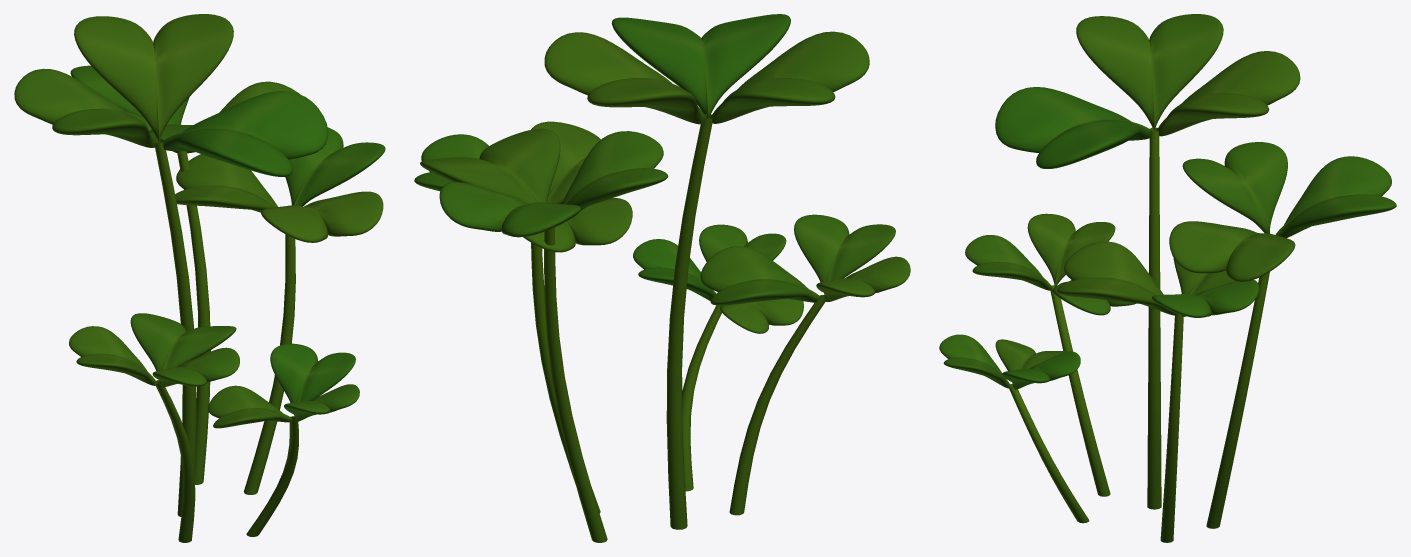
The model's file is bank_clover.glb.
The picture shows the model from 3 angles, left to right: view 1: azimuth 30°, elevation 25°; view 2: azimuth 150°, elevation 25°; view 3: azimuth 270°, elevation 25°; orthographic projection. The views are drawn at different scales.
Parts seen in each view (by area): view 1: SM_BankClover; view 2: SM_BankClover; view 3: SM_BankClover.
Part boxes in pixels (left/top/right/bottom): SM_BankClover: left=14, top=14, right=385, bottom=542; SM_BankClover: left=414, top=14, right=910, bottom=542; SM_BankClover: left=939, top=14, right=1396, bottom=542.
Size of the model in its own units: 0.4904 by 0.5706 by 0.5455.
